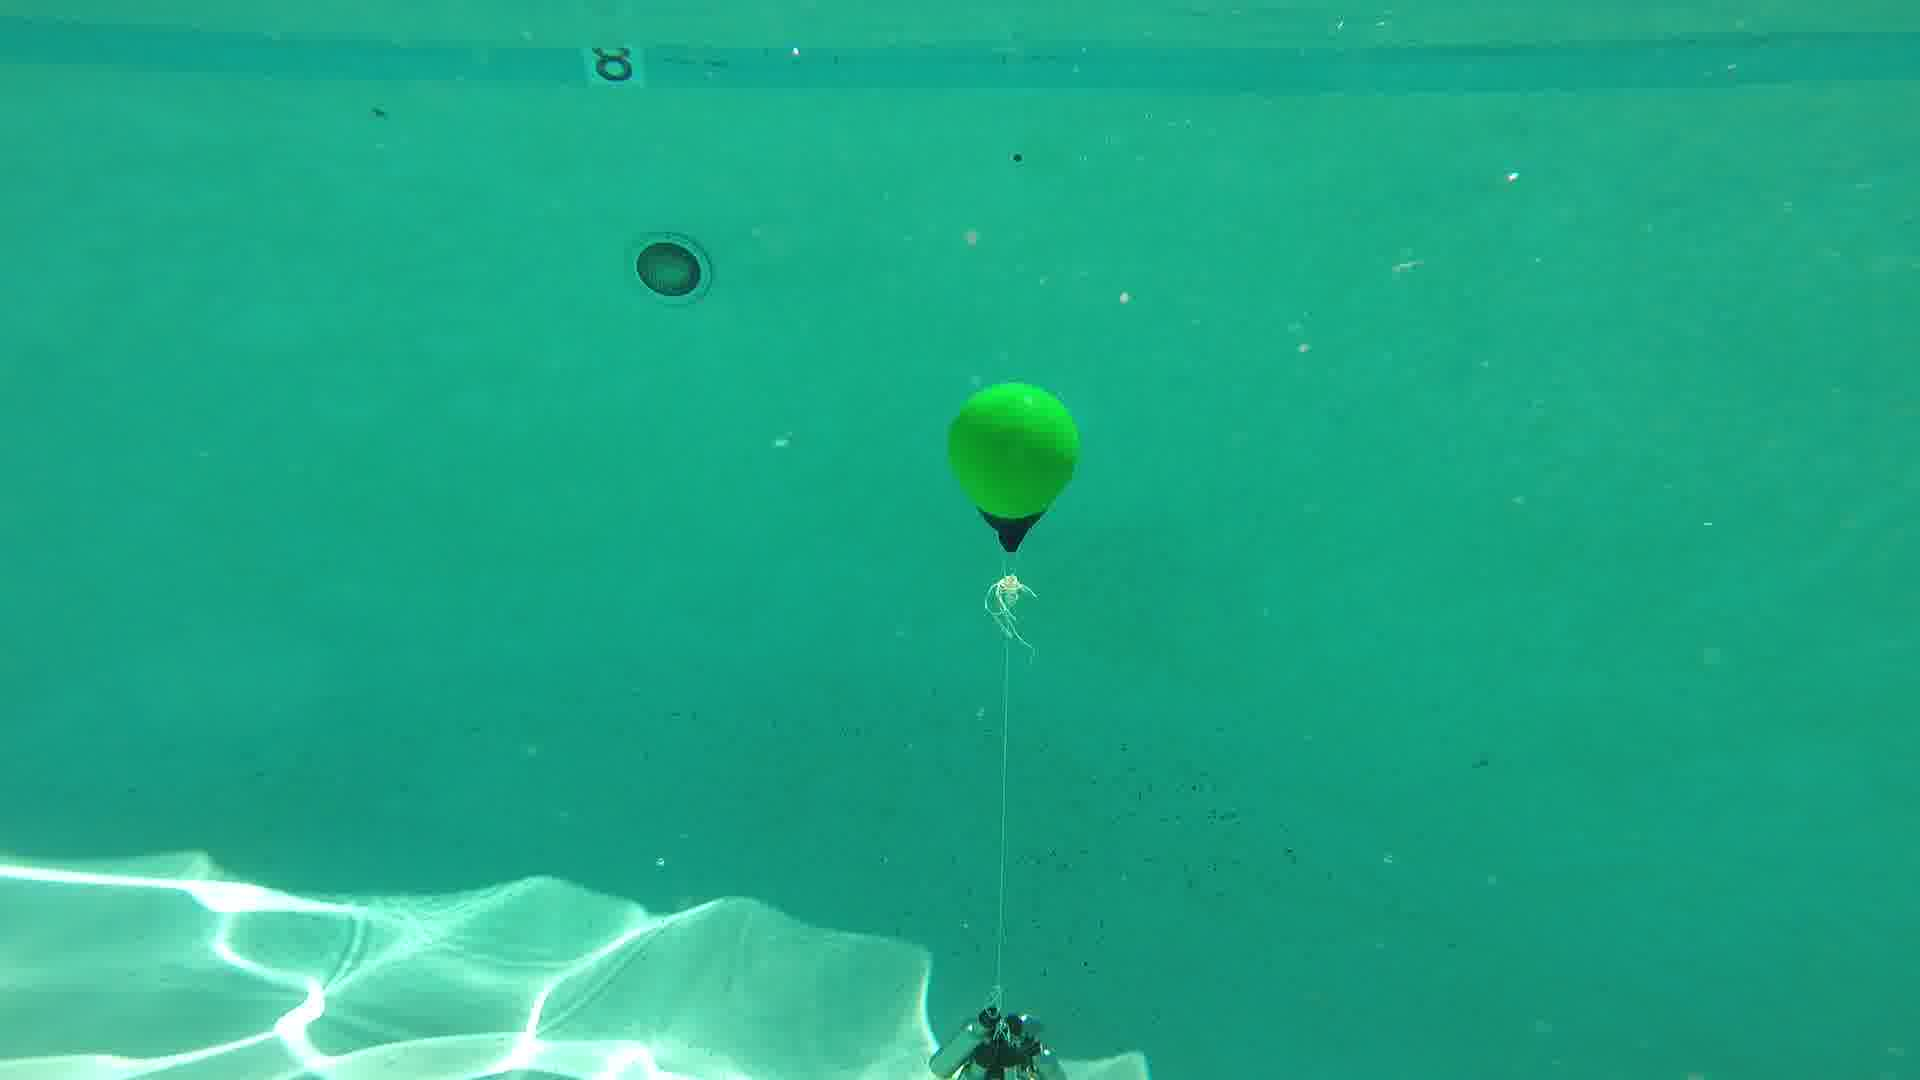yellow_buoy: (947, 381, 1083, 559)
